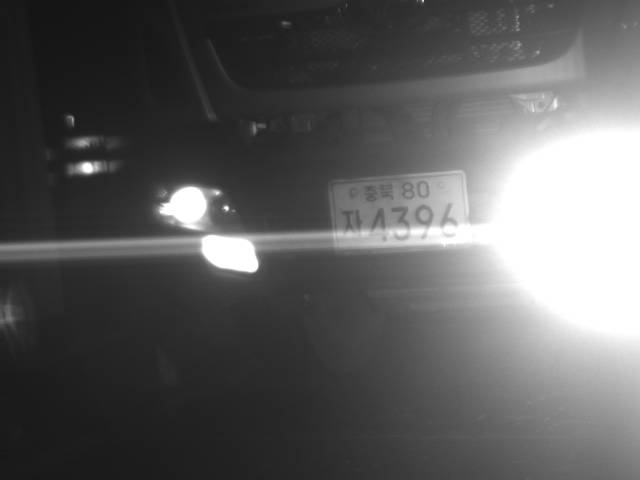car: (1, 1, 637, 365)
plate: (325, 170, 474, 252)
